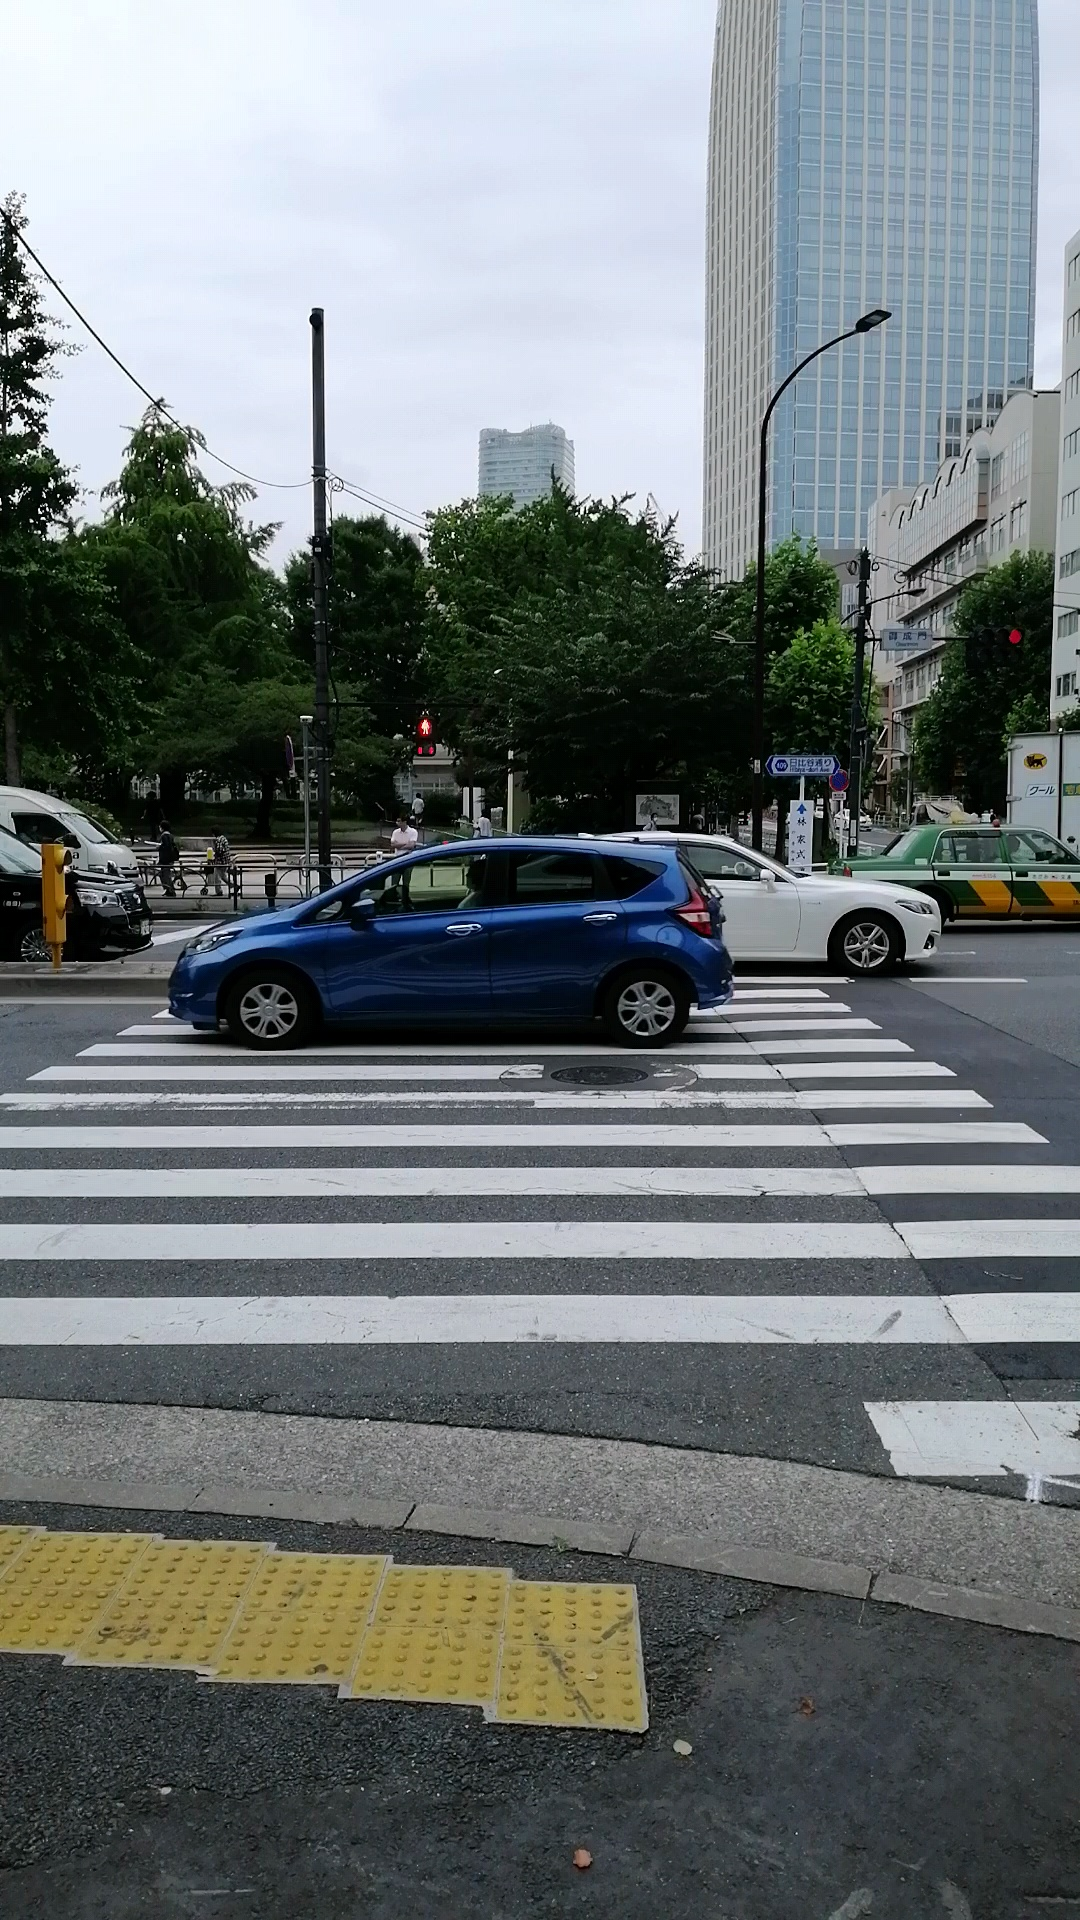red: (414, 715, 435, 758)
